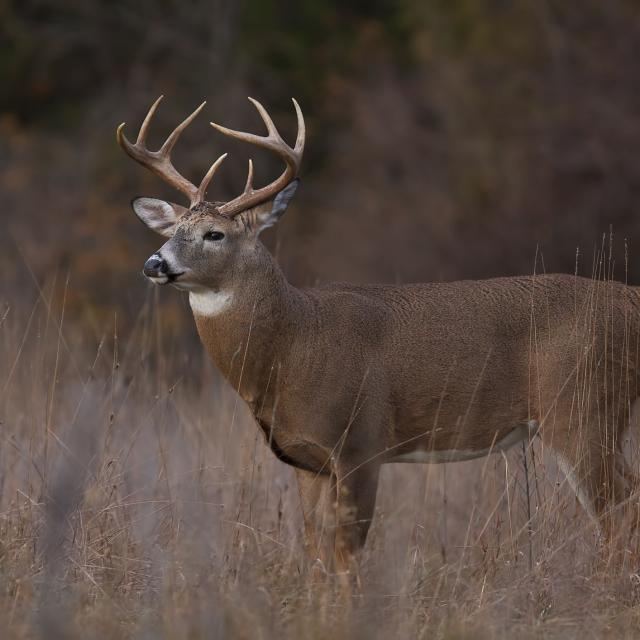L-F: (210, 122, 301, 219)
L-G1: (241, 158, 254, 194)
L-G2: (292, 97, 306, 163)
R-G1: (197, 152, 228, 194)
R-G2: (156, 100, 207, 161)
R-G3: (135, 94, 164, 149)
